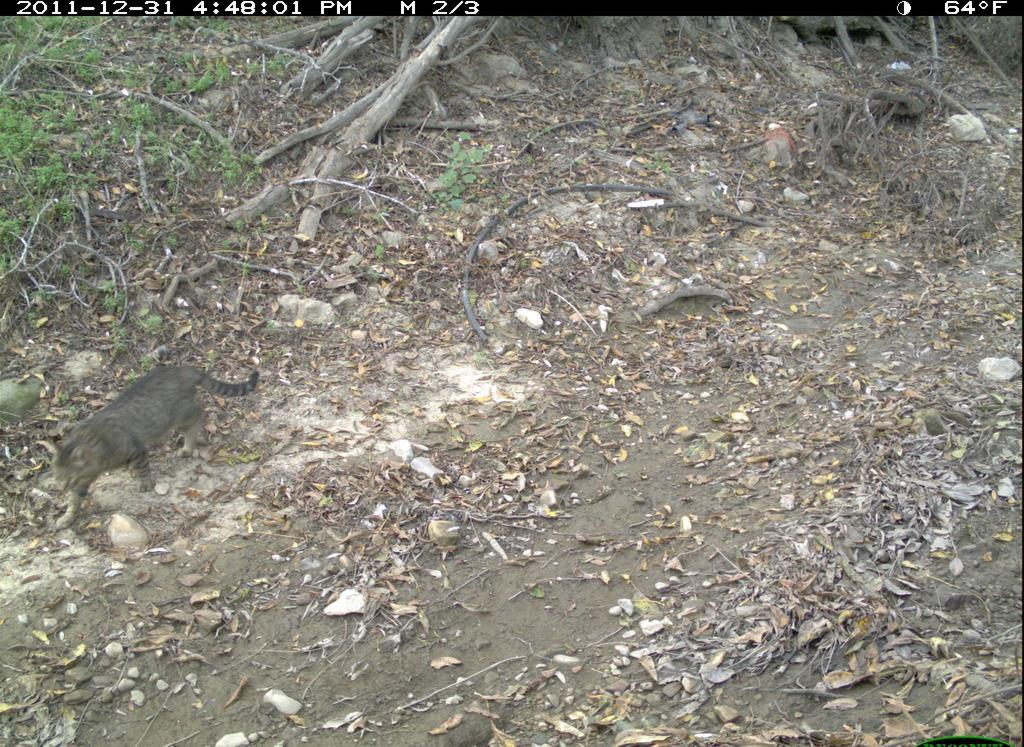cat: (39, 350, 267, 539)
